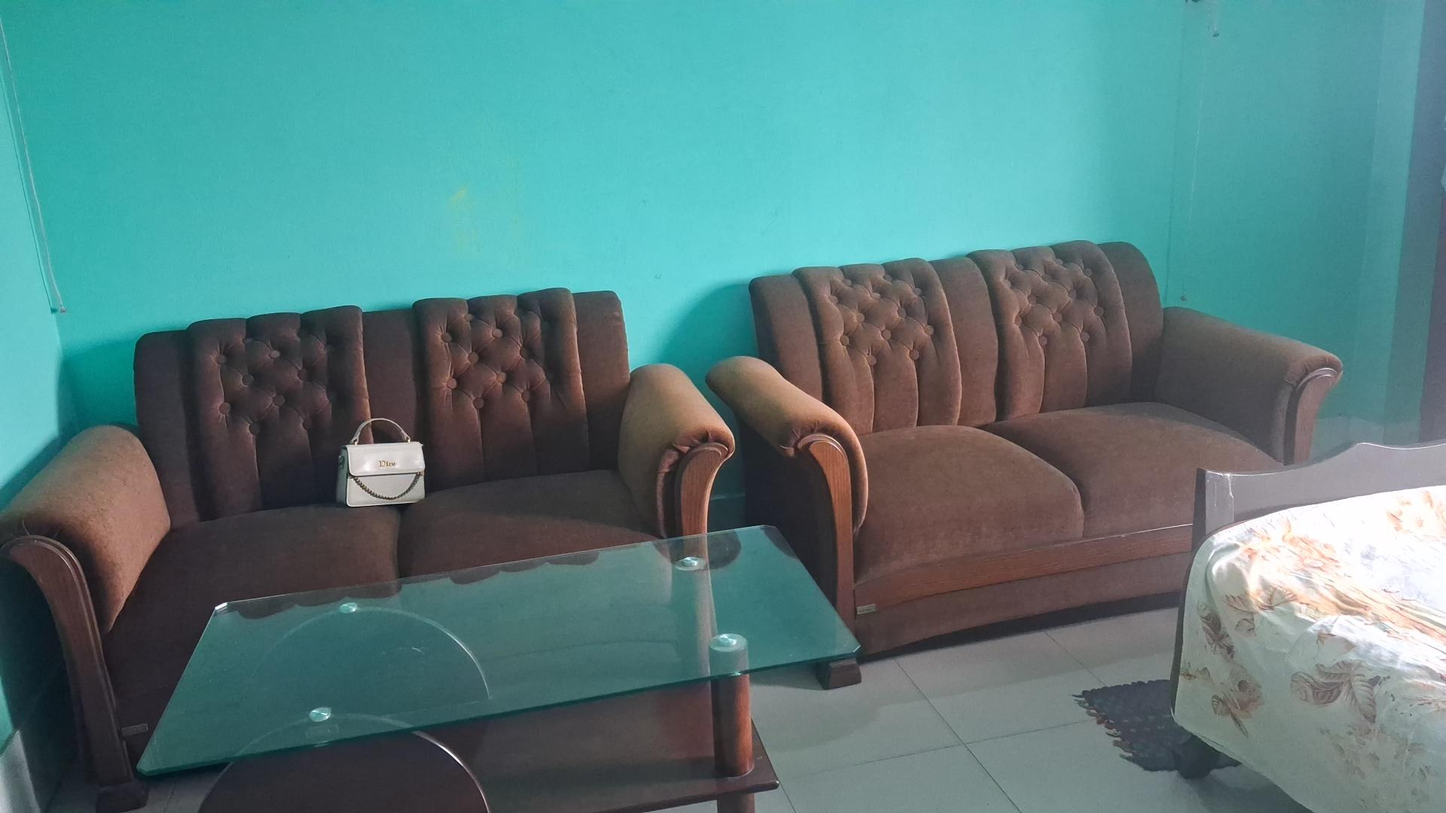Bag: (338, 416, 434, 507)
Table: (141, 520, 855, 813)
